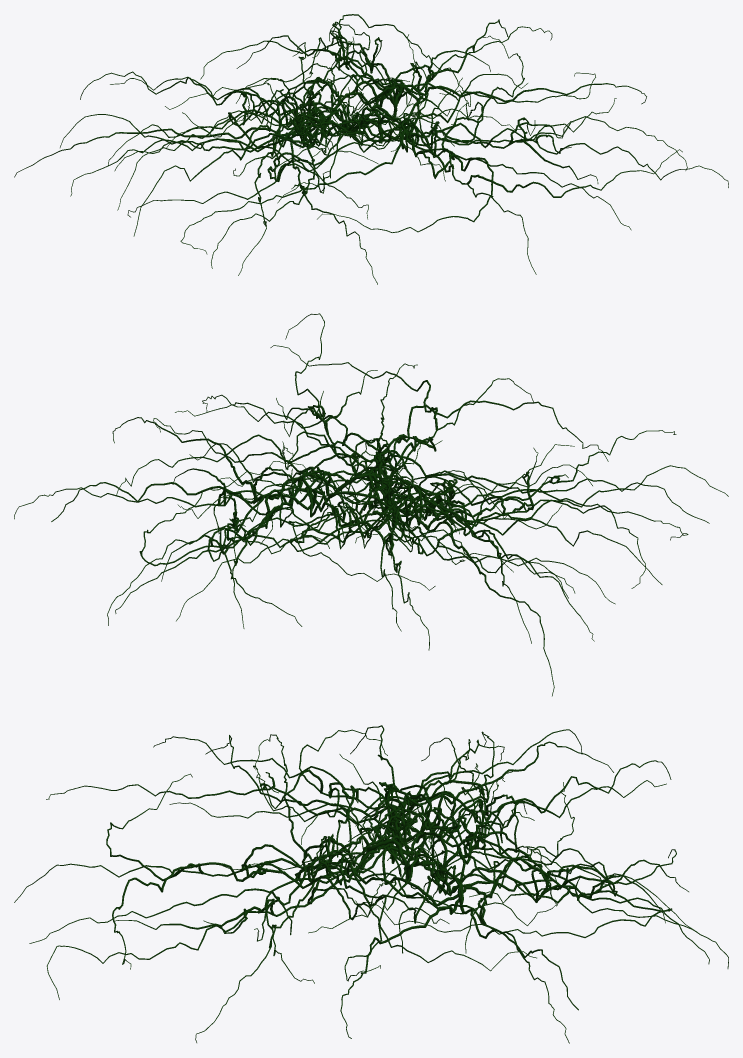
File: Liana3.fbx
The picture shows the model from 3 angles, top to bottom: view 1: azimuth 30°, elevation 25°; view 2: azimuth 150°, elevation 25°; view 3: azimuth 270°, elevation 25°; orthographic projection. The views are drawn at different scales.
Parts seen in each view (by area): view 1: IVY_Curve; view 2: IVY_Curve; view 3: IVY_Curve.
Part boxes in pixels (x1,y1,x2,y2): IVY_Curve: [14, 14, 728, 284]; IVY_Curve: [14, 313, 728, 696]; IVY_Curve: [14, 725, 728, 1043].
Bounding box in the file's own units: 251 × 39.23 × 252.
